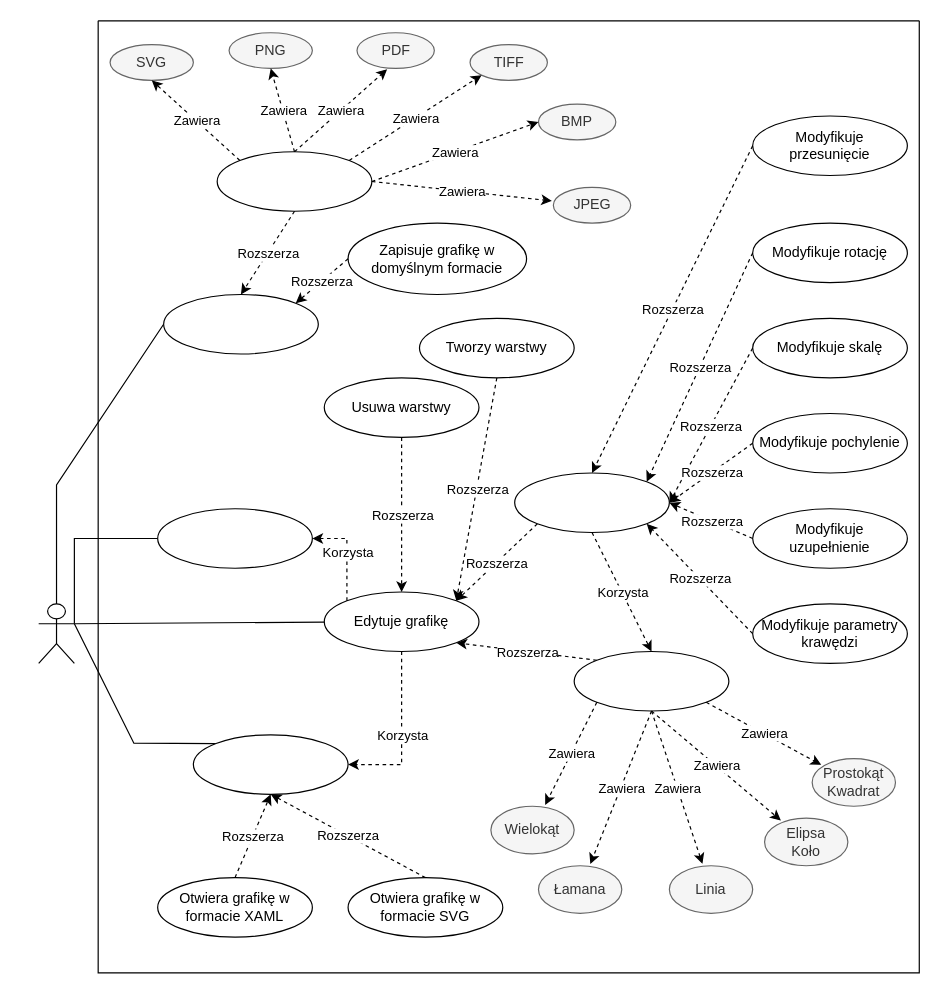
This 940x994 diagram has some shape labels left out. The shapes that lost their labels are listed below. From the top down, each one's centre as x and y in pixels, then its label:
(294,181): Zapisuje grafikę w innym formacie
(240,323): Zapisuje grafikę
(591,502): Edytuje element
(234,538): Tworzy nową grafikę
(55,633): Użytkownik
(651,680): Tworzy nowy element
(270,764): Otwiera grafikę
